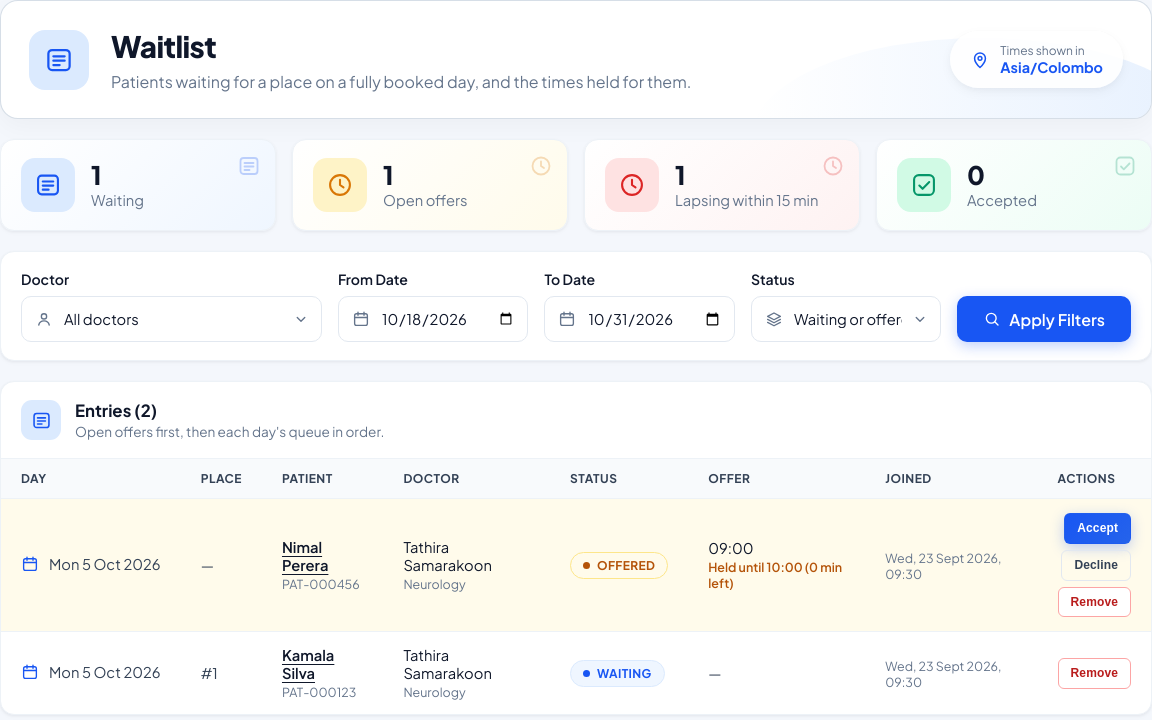
Test: WaitlistPage (SCRUM-37) › accepts an offer on the patient's behalf and reloads
Expected: the table with test id "waitlist-table" is shown, [1, 459, 1151, 714]
Click the button with aria-label "Accept the offer for Nimal Perera" at (1098, 528), box [1064, 513, 1131, 544]
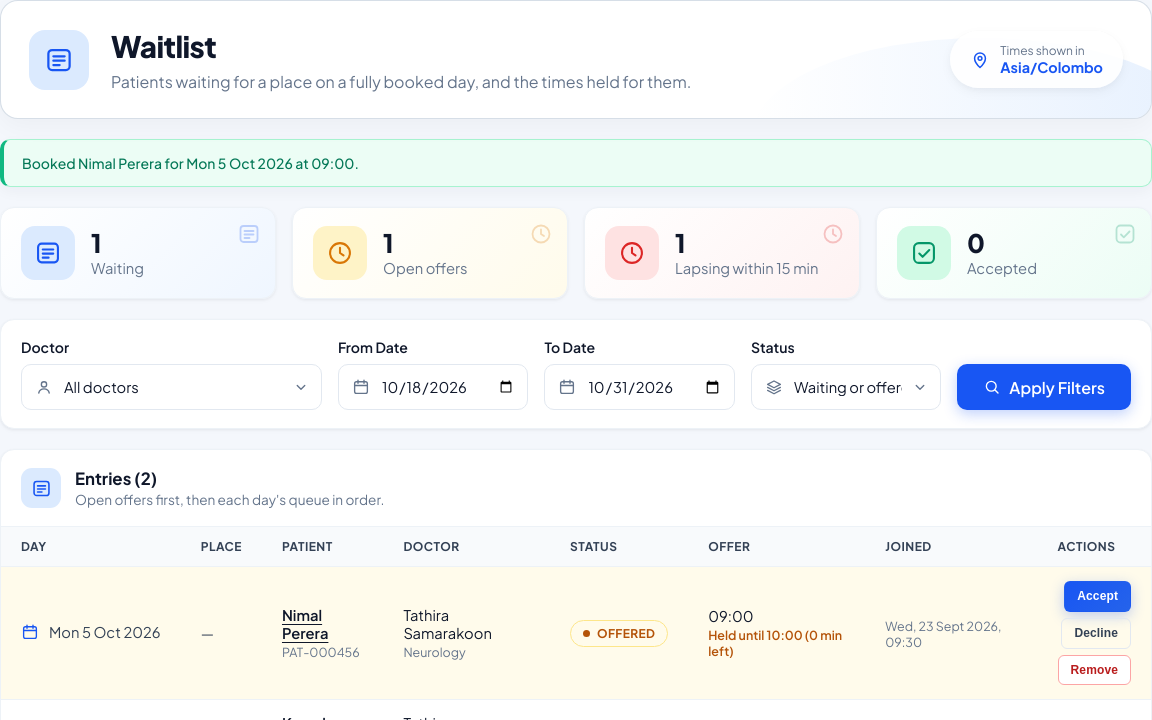
Now the message shows "Booked Nimal Perera", box [22, 154, 359, 172]
